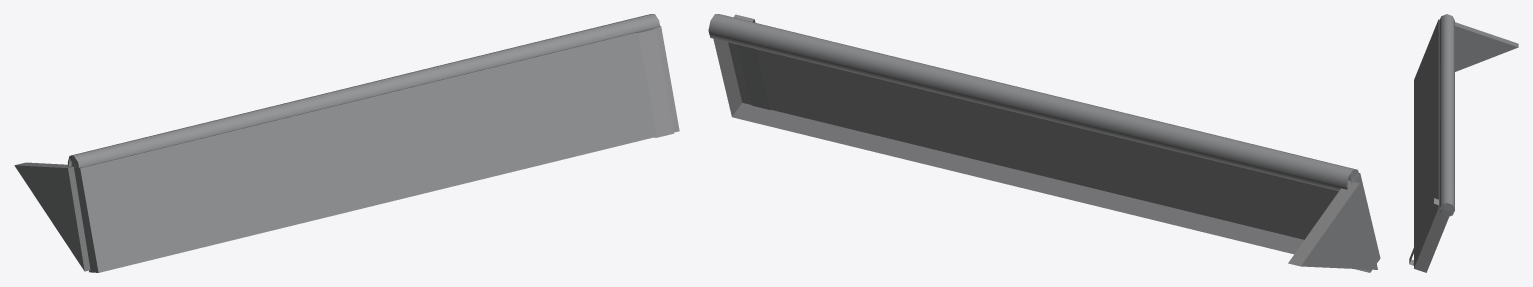
3 views of the same model, side by side, from view 1: azimuth 30°, elevation 25°; view 2: azimuth 150°, elevation 25°; view 3: azimuth 270°, elevation 25° (orthographic). The views are drawn at different scales.
Size of the model in its own units: 1.01 by 0.1732 by 0.2444.
